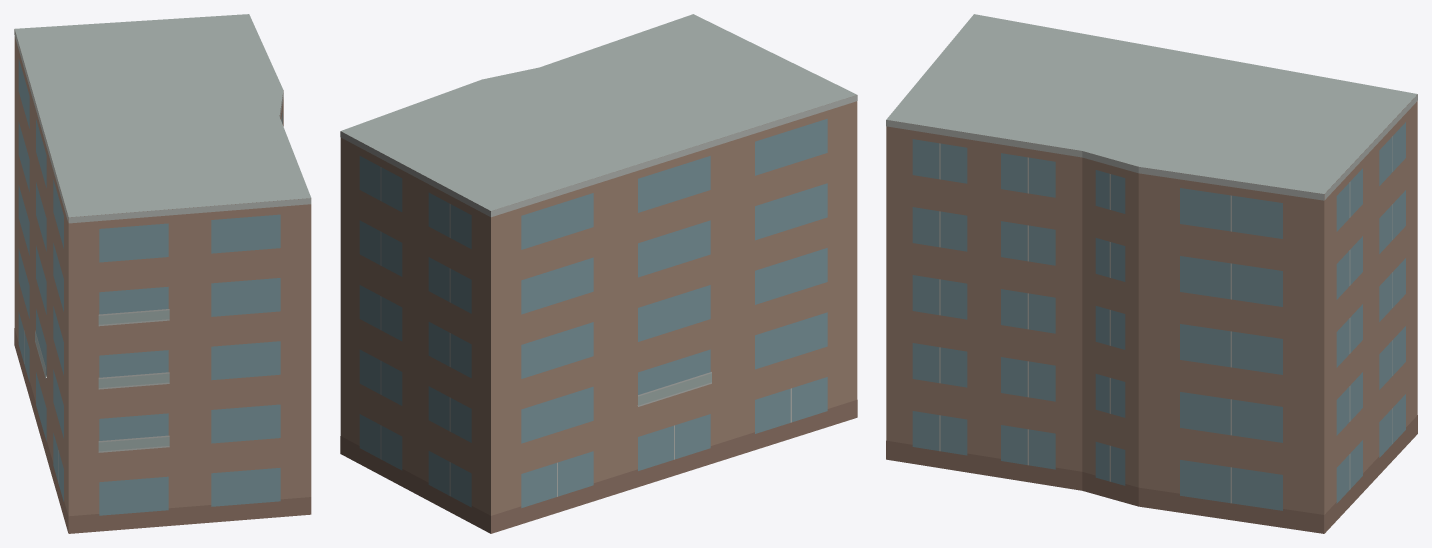
Rendered from survey-upis-32871313.glb.
3 renders of one model, left to right at view 1: azimuth 30°, elevation 25°; view 2: azimuth 150°, elevation 25°; view 3: azimuth 270°, elevation 25°, orthographic. The views are drawn at different scales.
Visible parts, largest first — view 1: survey-upis-32871313.tmp; view 2: survey-upis-32871313.tmp; view 3: survey-upis-32871313.tmp.
Part boxes in pixels (x1,y1,x2,y2): survey-upis-32871313.tmp: [14, 14, 311, 533]; survey-upis-32871313.tmp: [340, 14, 857, 533]; survey-upis-32871313.tmp: [886, 14, 1417, 533].
Bounding box in the file's own units: 14.33 × 12.6 × 17.88.
